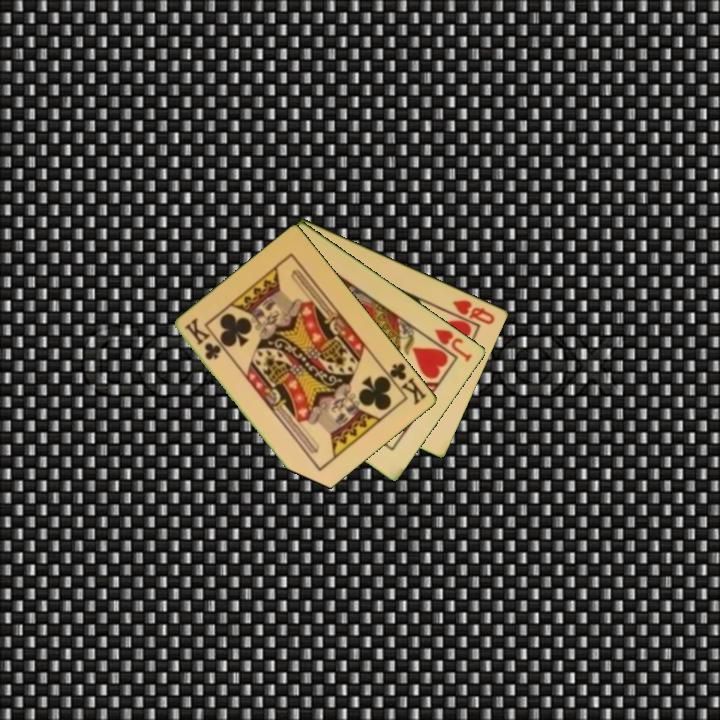Jh: (423, 325, 475, 365)
Kc: (381, 359, 430, 408), (181, 315, 224, 363)
Qh: (449, 296, 498, 327)
